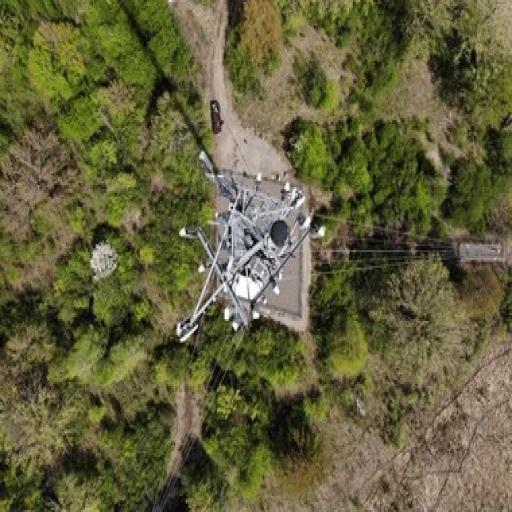supporting_tower: (174, 148, 326, 346)
